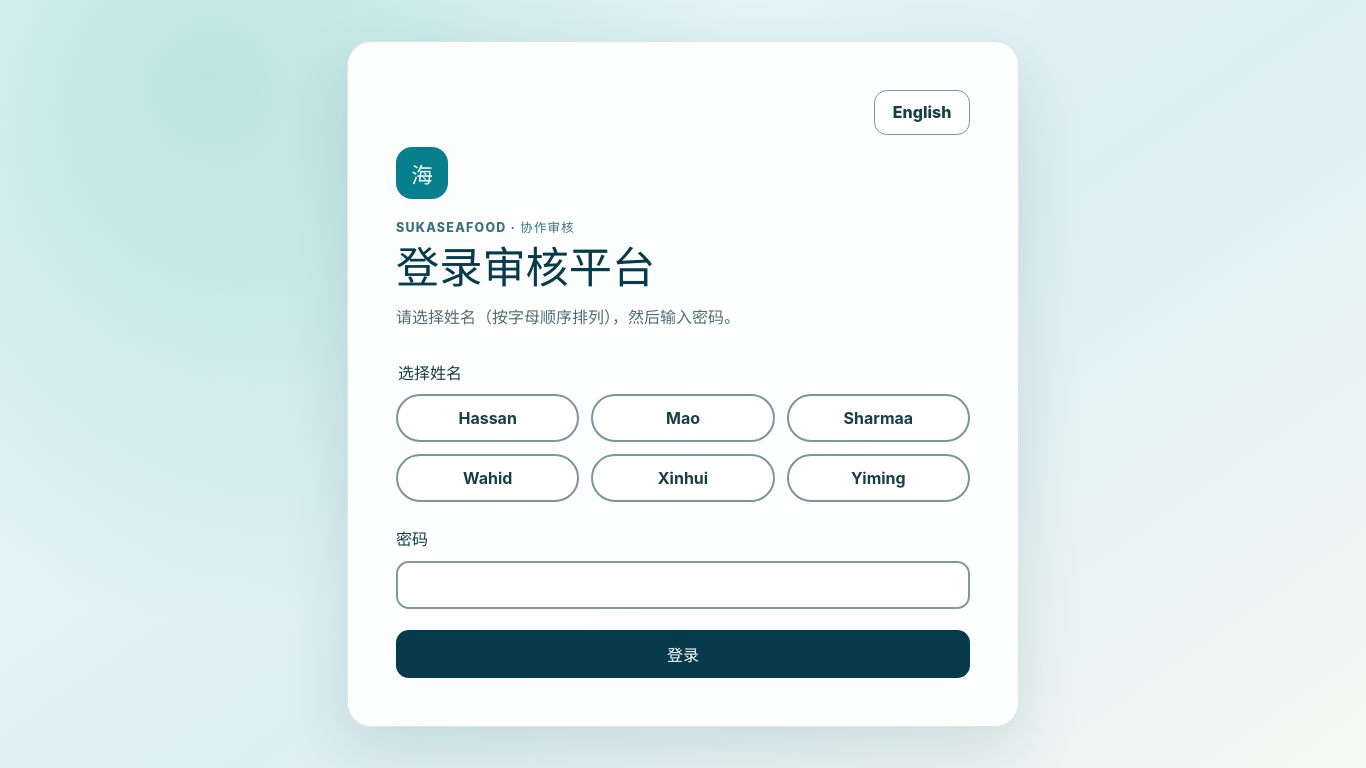
Test: login page › maps login status 401 to a safe message
This screenshot has width=1366, height=768.
Click the radio button labelled "Hassan" at (488, 418), box [396, 394, 579, 442]
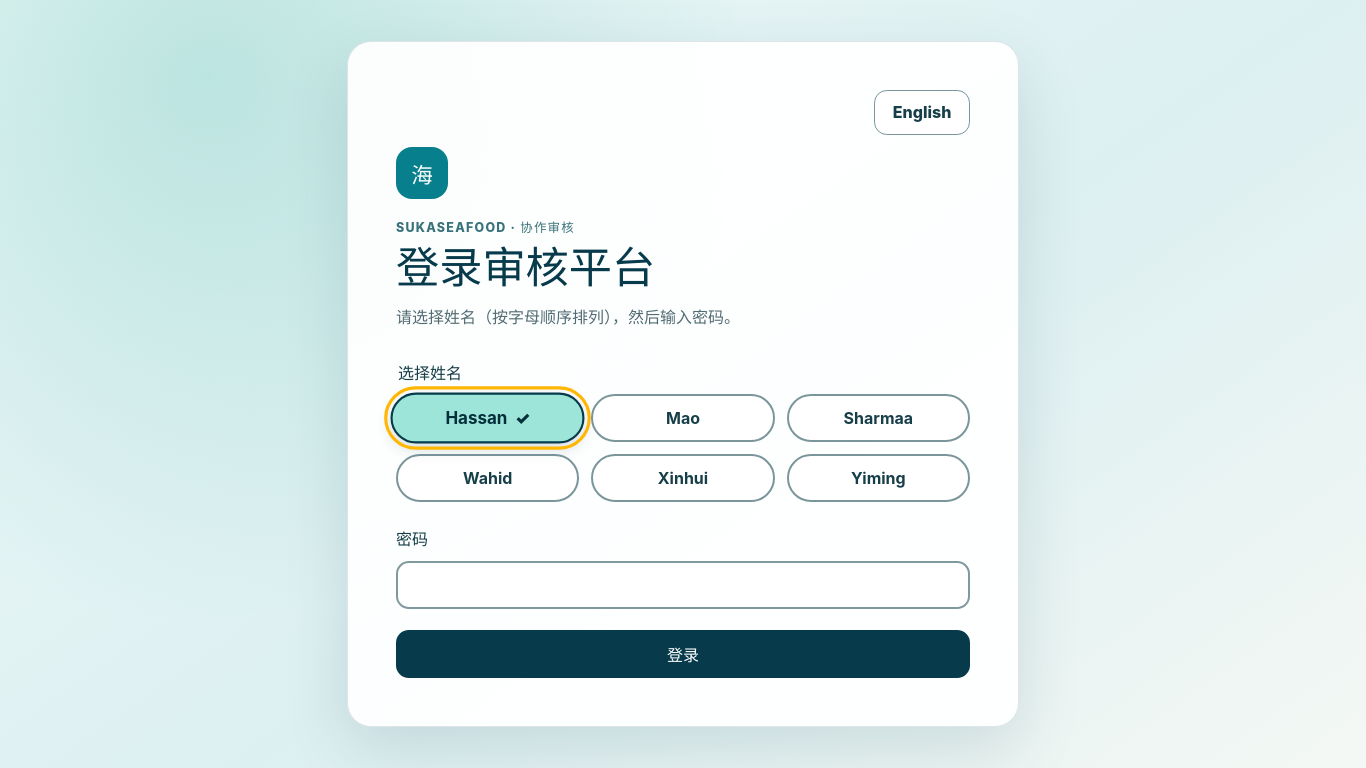
Type "wrong-password" into the password field labelled "密码" at (683, 585), box [396, 561, 970, 609]
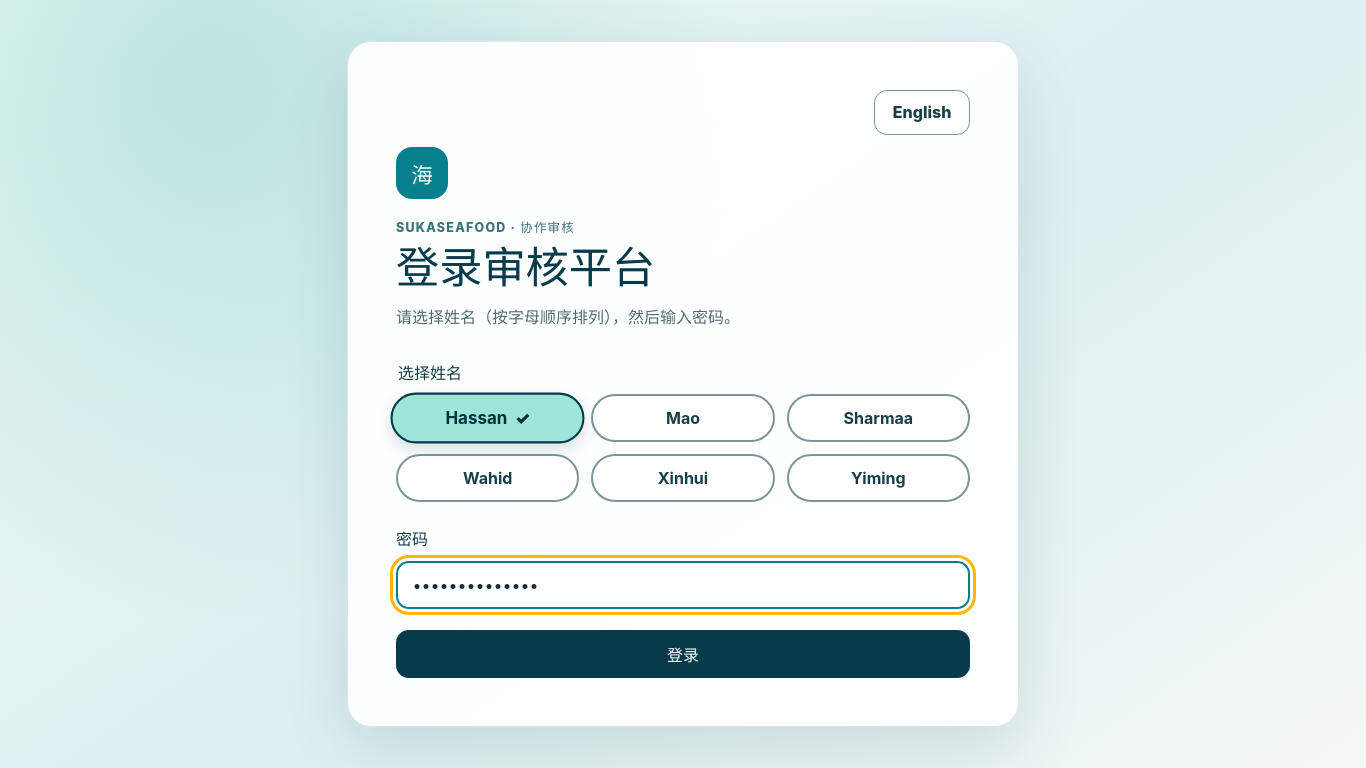
Click the button "登录" at (683, 654), box [396, 630, 970, 678]
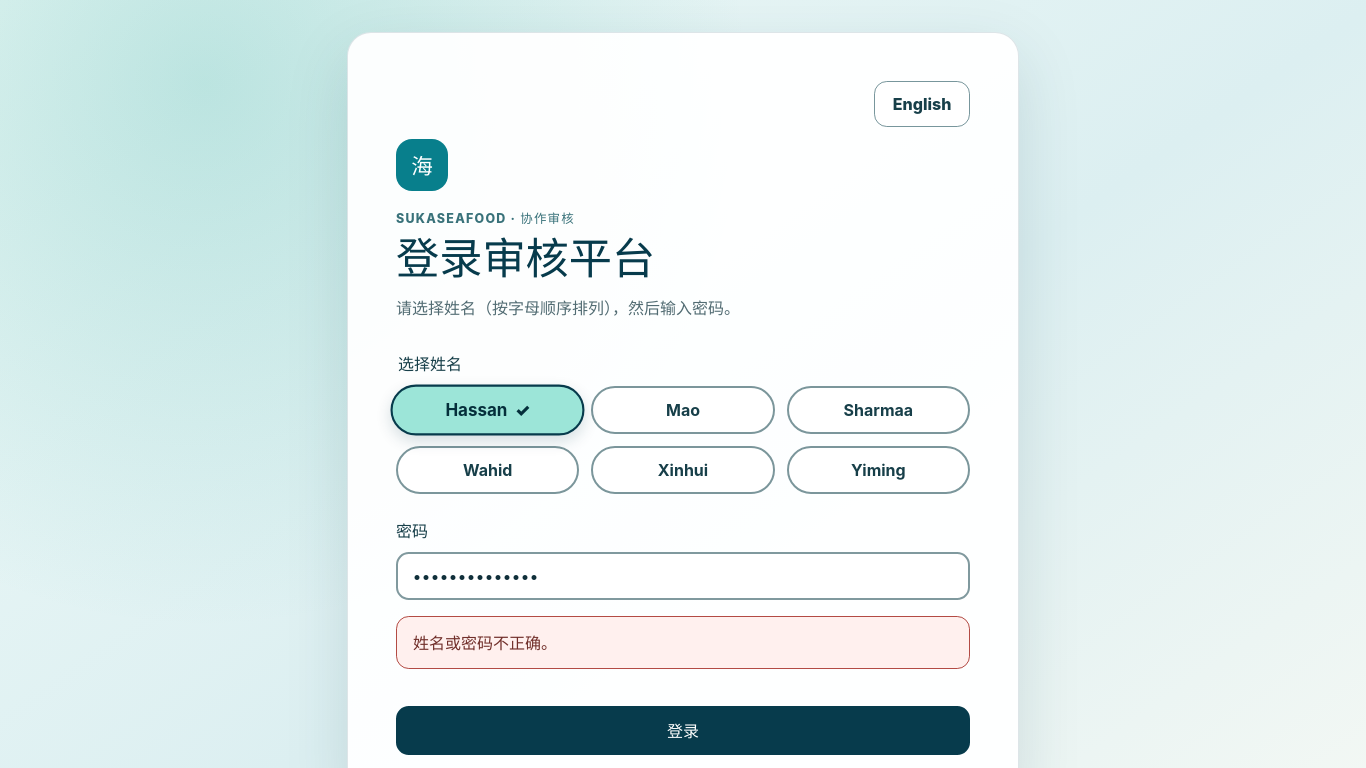
Expected: the message does not show "server detail", [396, 616, 970, 669]
Result: the message reads "姓名或密码不正确。" at [413, 633, 557, 653]
